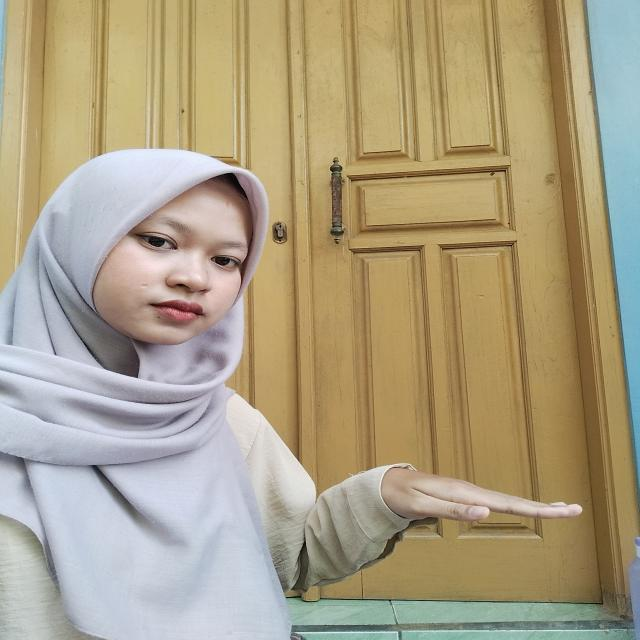adik: (332, 457, 592, 570)
